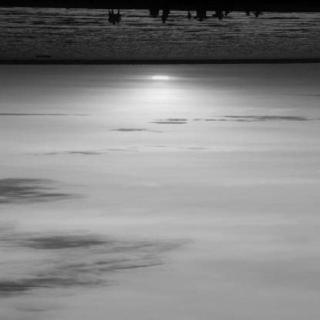other: (105, 64, 219, 114)
